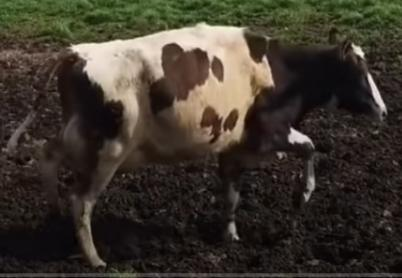cow: (59, 23, 387, 269)
